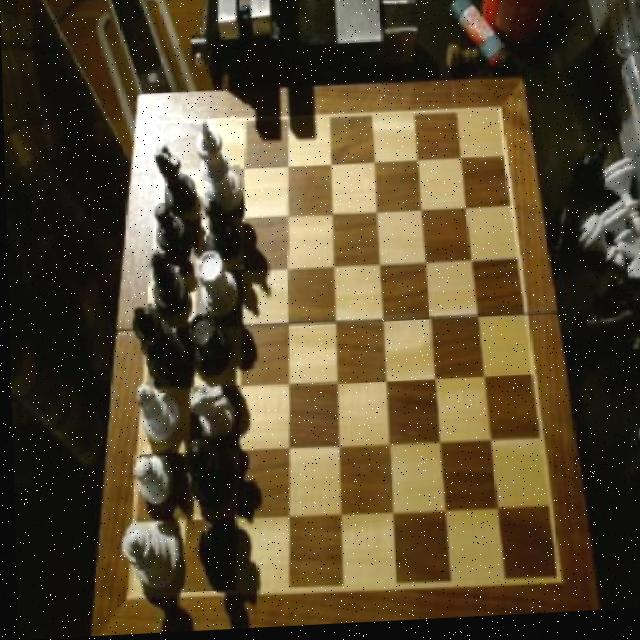bishop: (145, 251, 188, 321), (201, 194, 237, 268)
black-bishop: (129, 305, 182, 391)
black-king: (153, 146, 194, 222)
black-knight: (192, 522, 231, 586), (149, 203, 188, 260)
black-pawn: (181, 437, 230, 515)
black-queen: (186, 316, 226, 379)
black-rook: (134, 384, 177, 451)
white-bishop: (195, 120, 241, 220)
white-king: (187, 382, 232, 448)
white-knight: (131, 450, 173, 510)
white-pawn: (115, 519, 180, 594)
white-queen: (193, 247, 239, 321)
